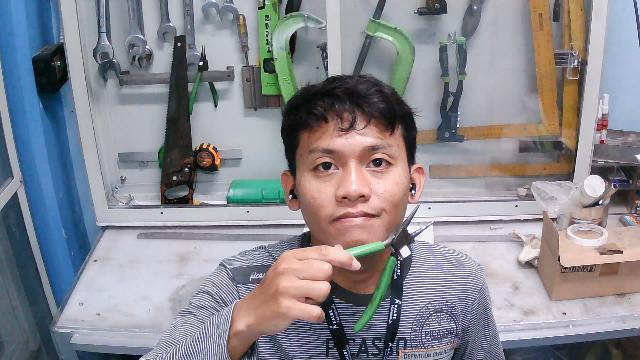tang_cucut_lancip_1: (322, 192, 442, 332)
